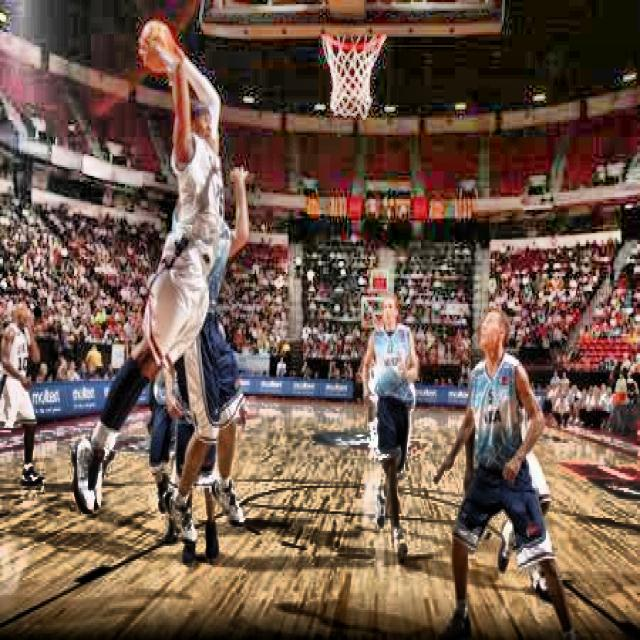rim: (323, 31, 385, 117)
